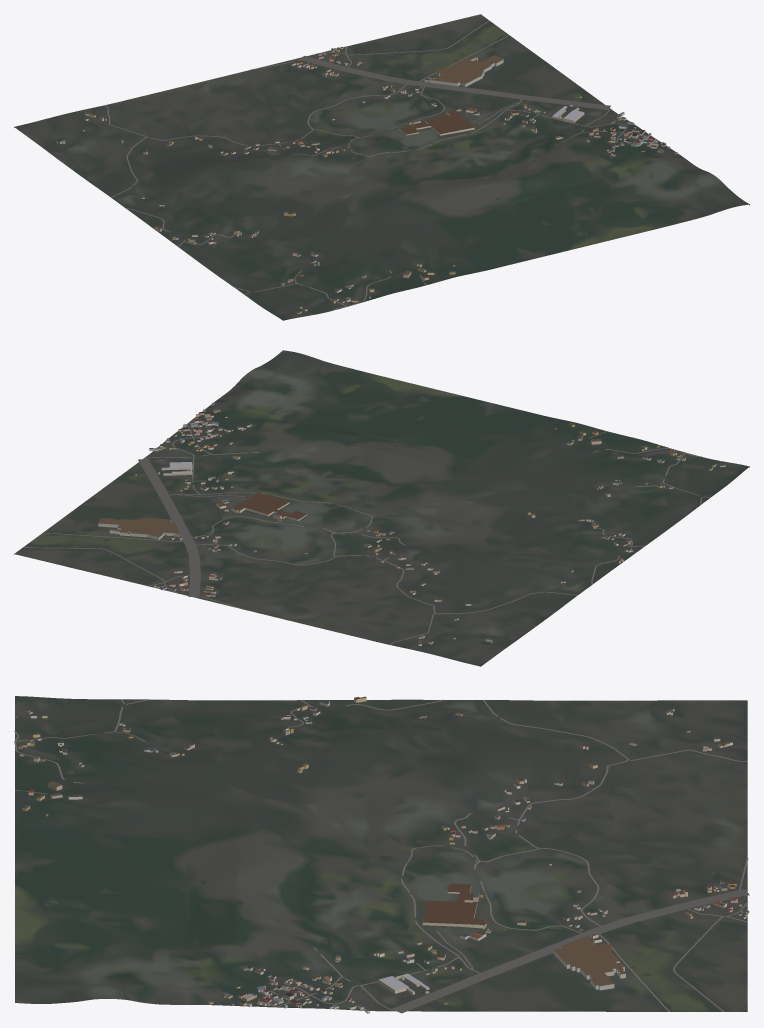
The picture shows the model from 3 angles, top to bottom: view 1: azimuth 30°, elevation 25°; view 2: azimuth 150°, elevation 25°; view 3: azimuth 270°, elevation 25°; orthographic projection. The views are drawn at different scales.
Parts seen in each view (by area): view 1: ground, buildings, roads; view 2: ground, buildings, roads; view 3: ground, buildings, roads.
Part boxes in pixels (<box>): ground: <box>14,14,749,320</box>; buildings: <box>56,47,677,313</box>; roads: <box>105,20,653,315</box>; ground: <box>14,350,749,666</box>; buildings: <box>98,403,725,645</box>; roads: <box>22,423,721,644</box>; ground: <box>15,696,747,1011</box>; buildings: <box>18,696,749,1013</box>; roads: <box>14,699,749,1013</box>.
Bounding box in the file's own units: 1418 × 32.5 × 1408.
